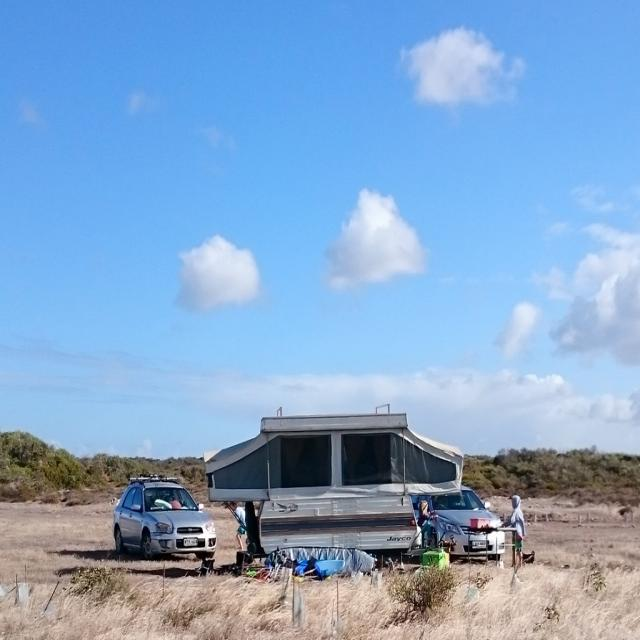Passenger Car: (110, 476, 217, 561), (434, 485, 506, 566)
Pedestrians: (509, 492, 526, 572)
